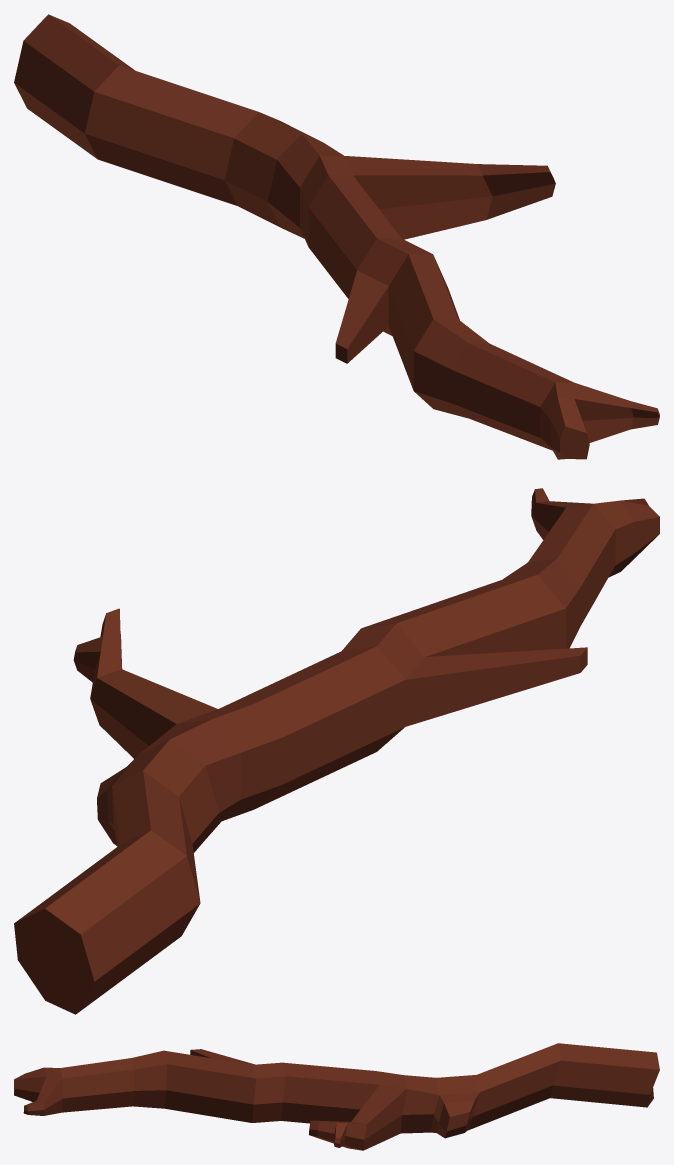
File: Branch_01.fbx
The picture shows the model from 3 angles, top to bottom: view 1: azimuth 30°, elevation 25°; view 2: azimuth 150°, elevation 25°; view 3: azimuth 270°, elevation 25°; orthographic projection. The views are drawn at different scales.
Parts seen in each view (by area): view 1: Branch_01; view 2: Branch_01; view 3: Branch_01.
Boxes of the visible parts, x1,y1,x2,y2 form: Branch_01: (14,14,659,459); Branch_01: (14,488,659,1014); Branch_01: (14,1043,659,1150).
Size of the model in its own units: 129 by 40.66 by 367.
